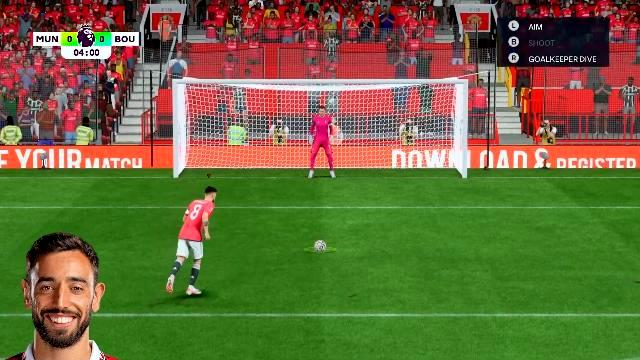bottom-left: (179, 134, 275, 178)
bottom-right: (366, 134, 462, 178)
center-down: (276, 134, 366, 180)
center-up: (273, 85, 365, 133)
circle: (304, 249, 336, 253)
football: (313, 241, 327, 252)
goalkeeper: (305, 105, 337, 179)
player: (164, 185, 220, 302)
top-left: (178, 85, 272, 133)
top-right: (366, 86, 462, 132)
